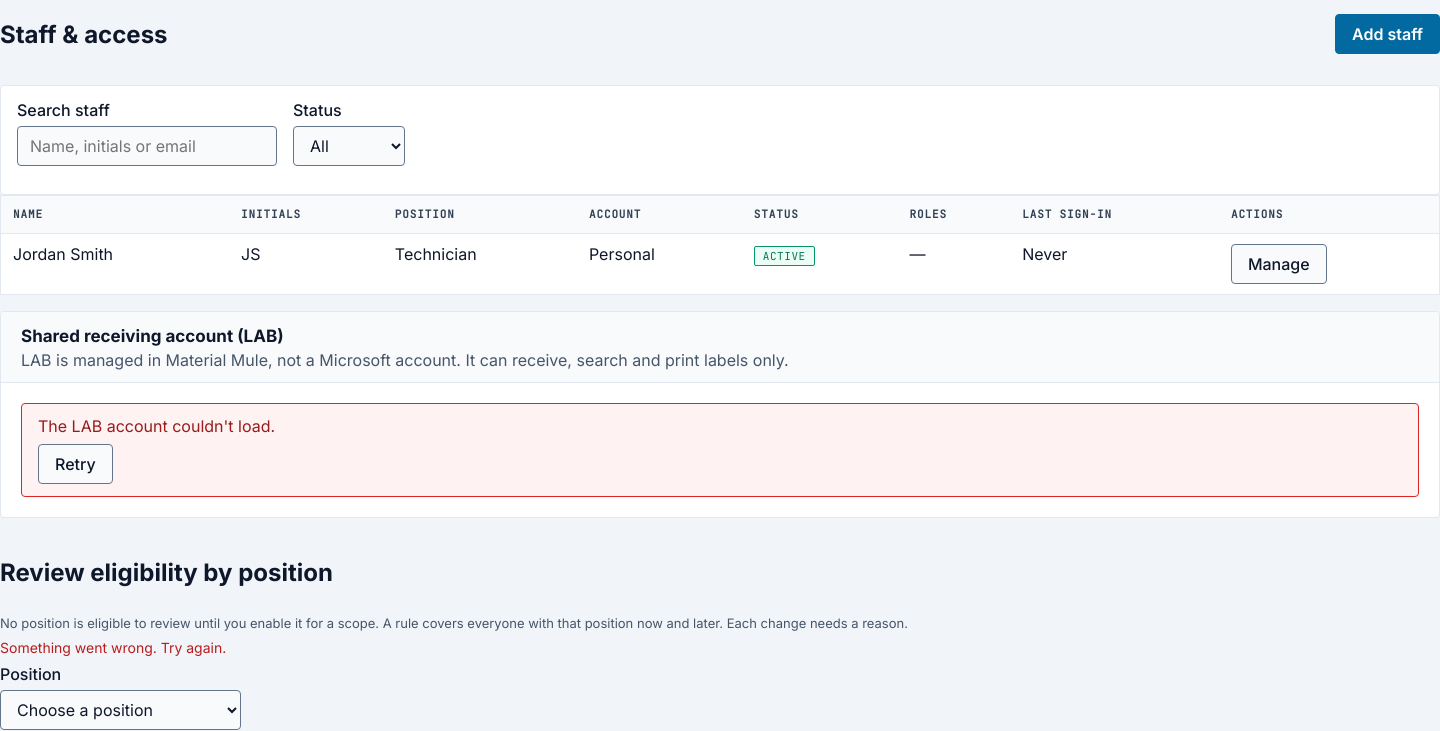
Test case: Staff drawer: job title, eligibility and capabilities (MM-AO06) › AC1: a job-title override needs a reason and shows beside the Microsoft title
This screenshot has width=1440, height=731.
Click the button with aria-label "Manage Jordan Smith" at (1279, 264), box [1231,244,1327,284]
(page scrolled)
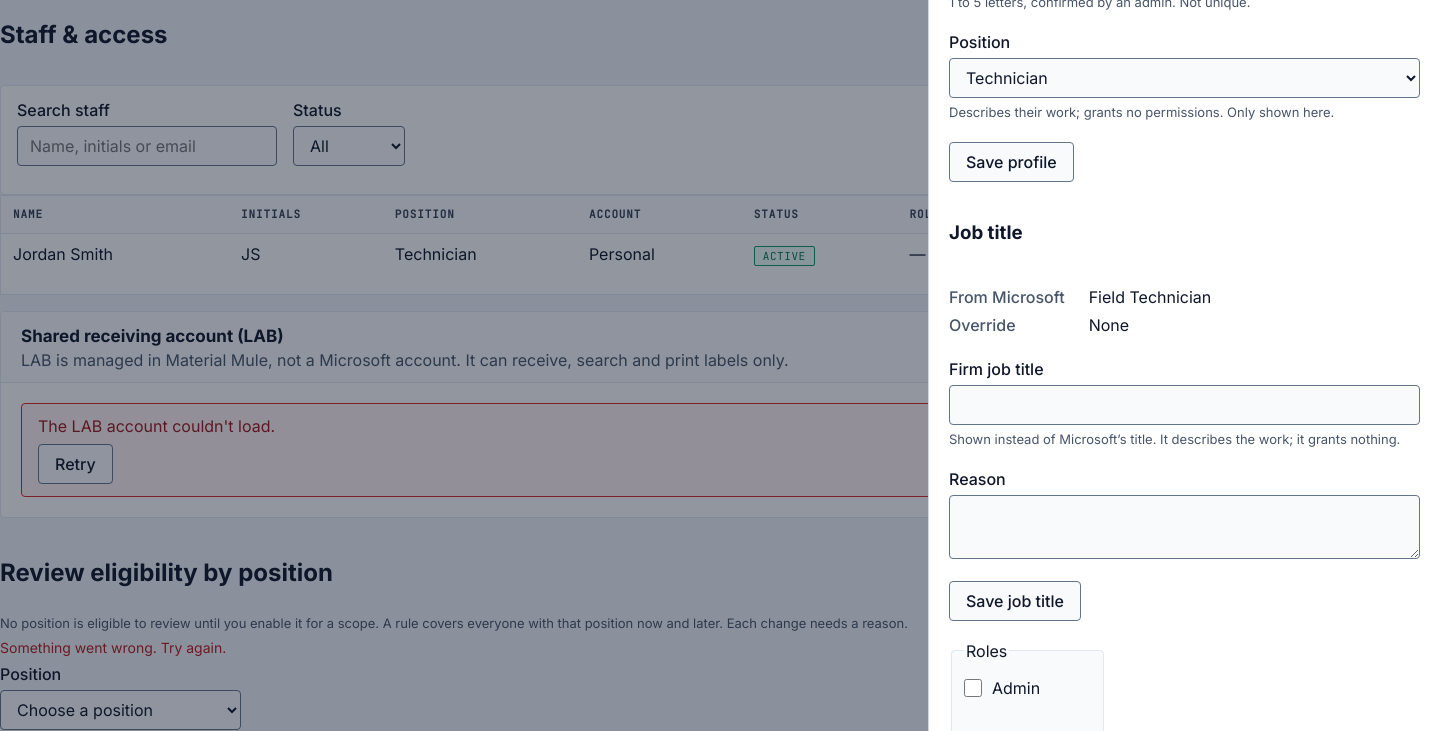
Type "Senior Technician" into the field labelled "Firm job title" at (1184, 404), box [949,384,1420,424]
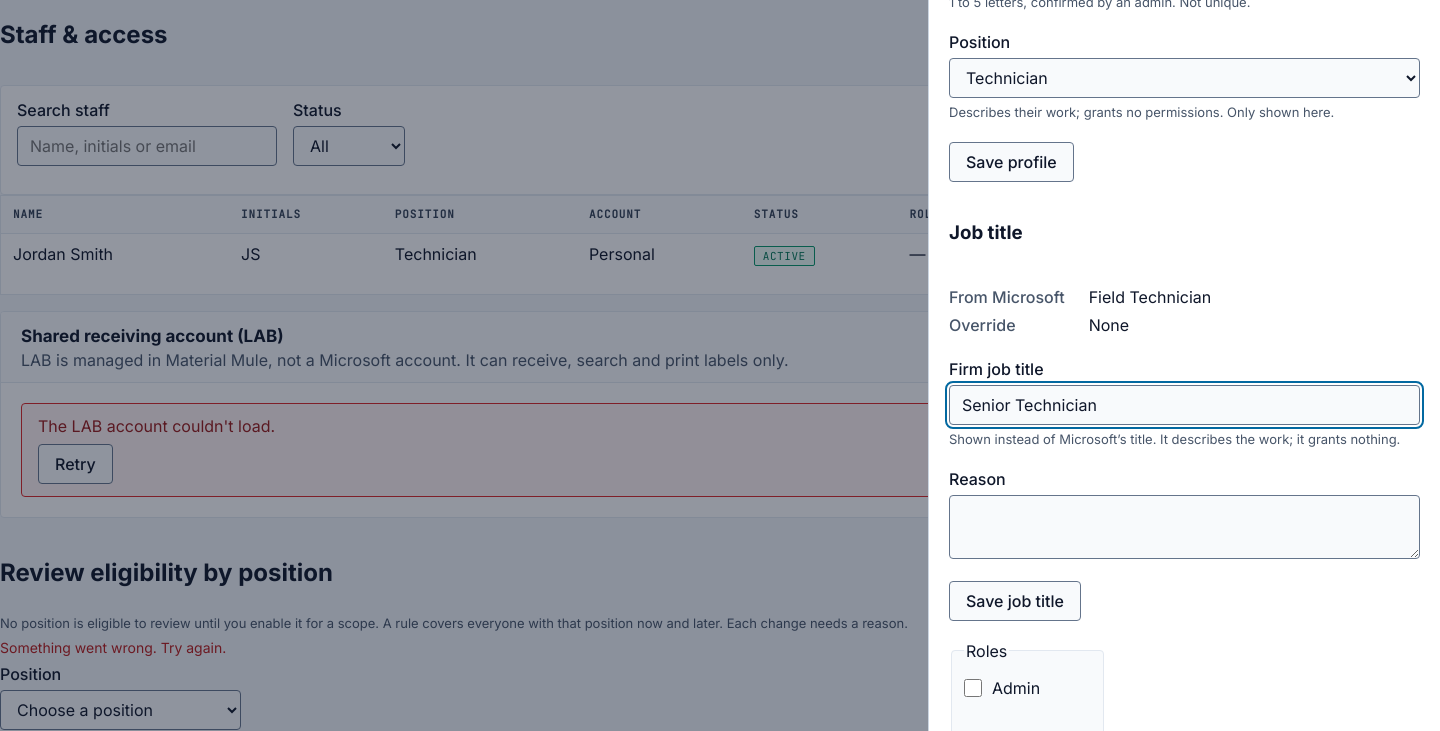
Click the button "Save job title" at (1015, 600), box [949,580,1081,620]
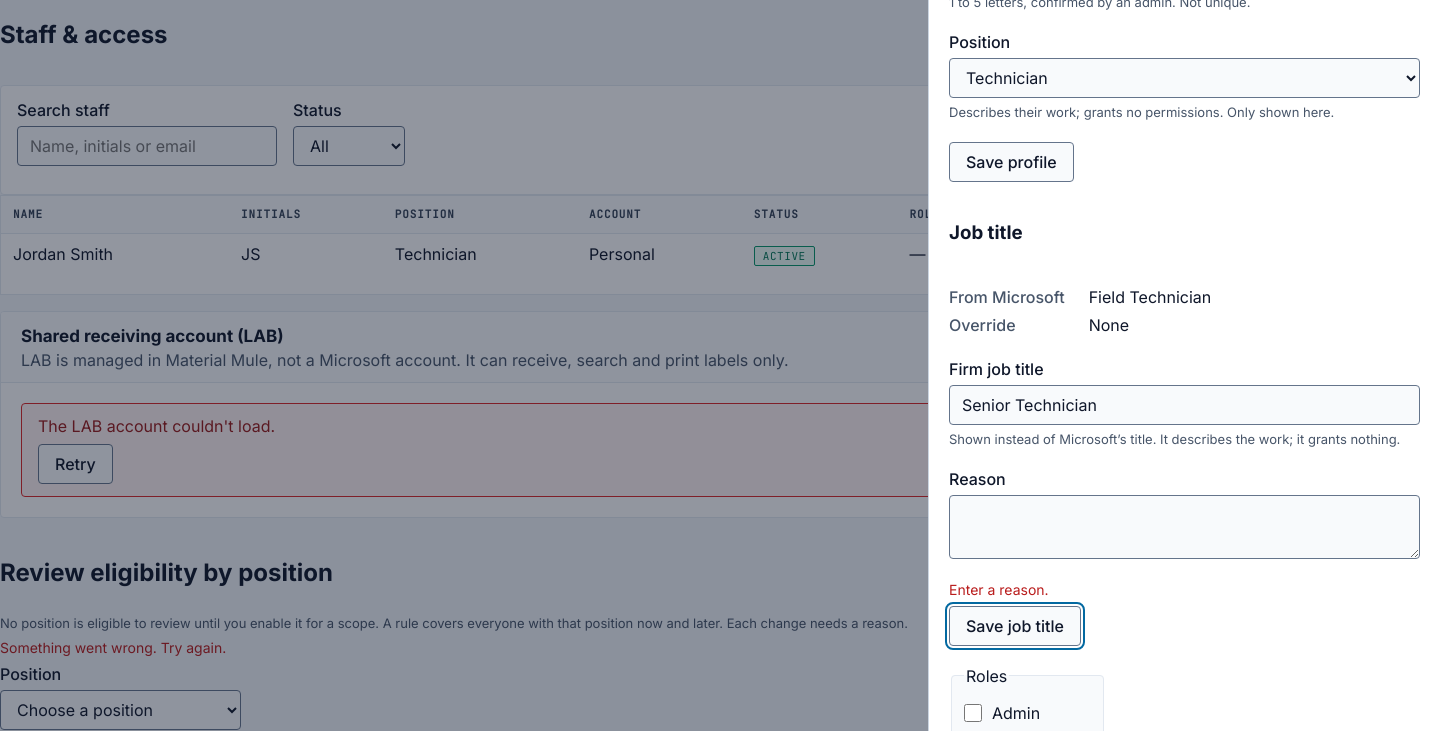
Check: the text "Enter a reason." is shown, box [949,580,1049,598]
Type "Title per firm records" into the text box labelled "Reason" at (1184, 526), box [949,494,1420,558]
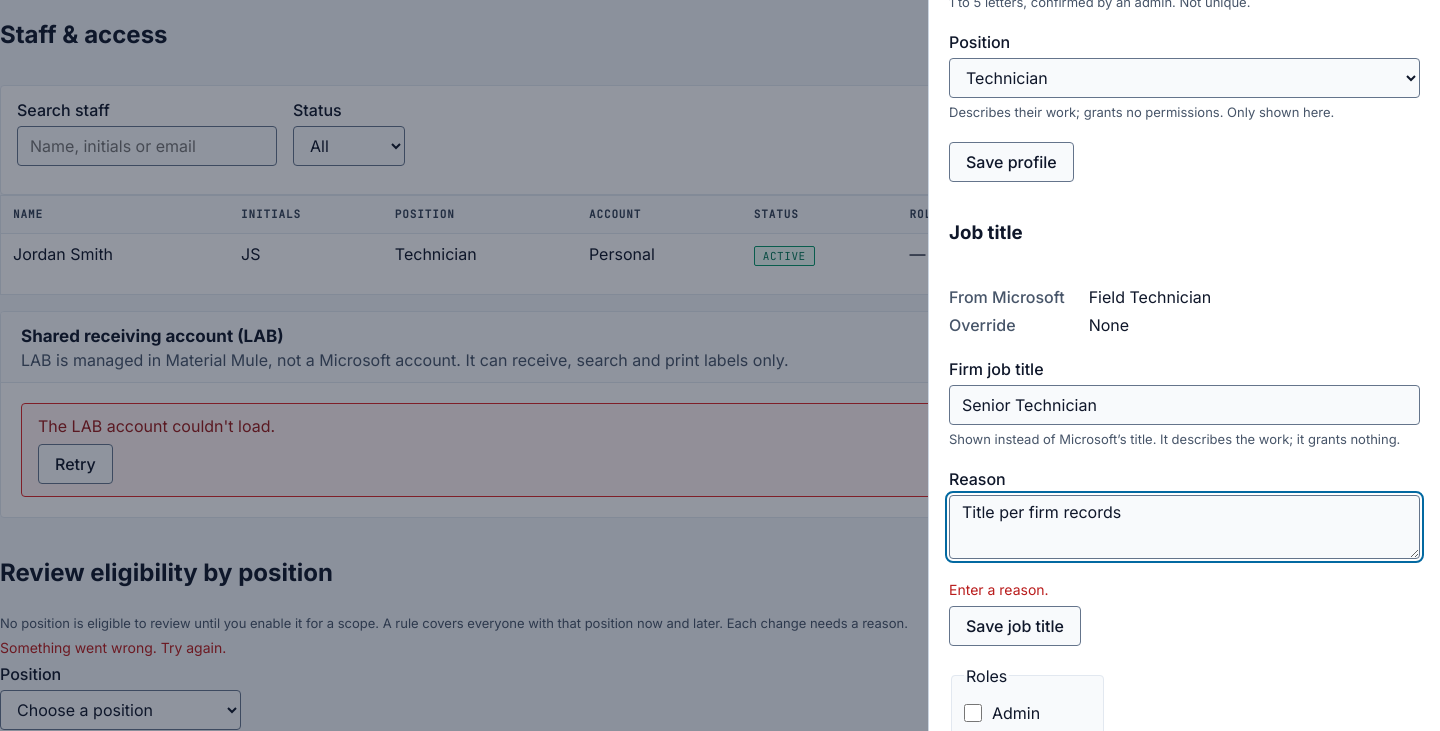
Click the button "Save job title" at (1015, 626), box [949,606,1081,646]
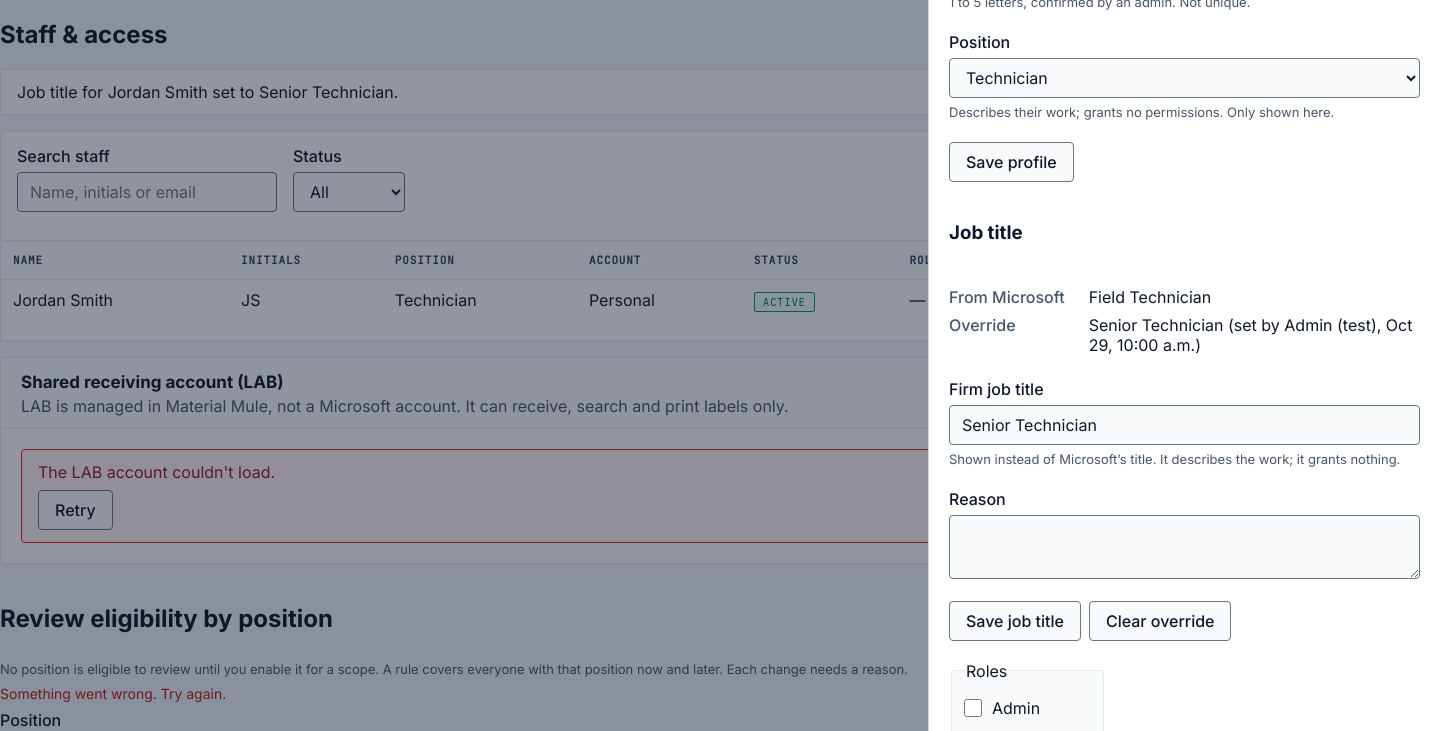
Check: the text "Job title for Jordan Smith set to Senior Technician." is shown, box [0,69,1439,115]
